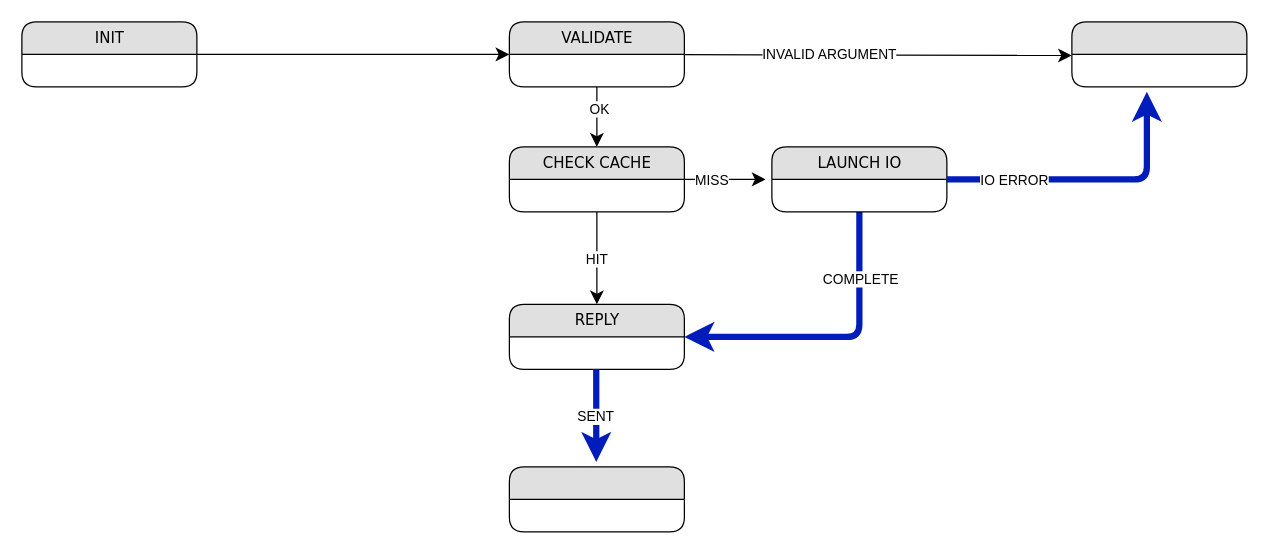
Some shapes in this 1269 by 554 pixel diagram are drawn without their labels. The centre of each missing label's shape, as x and y in pixels:
FAIL: the point at 1159,54
SUCCESS: the point at 596,499
